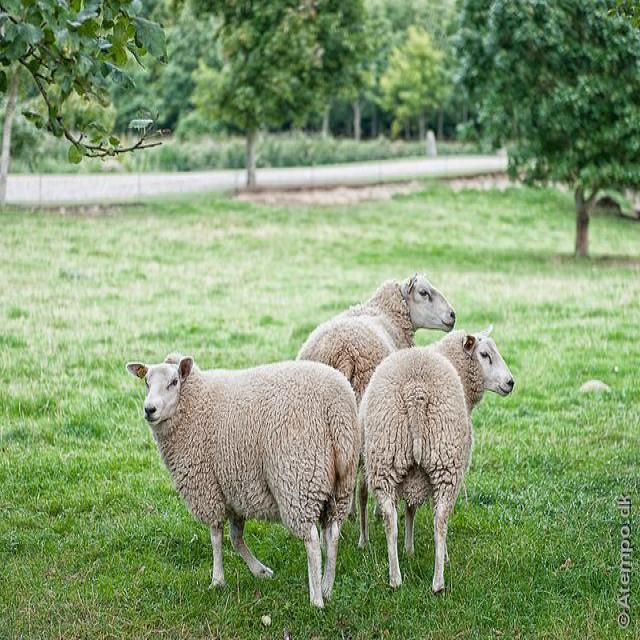Sheep: (130, 350, 359, 610), (364, 329, 514, 604), (297, 274, 455, 526)
